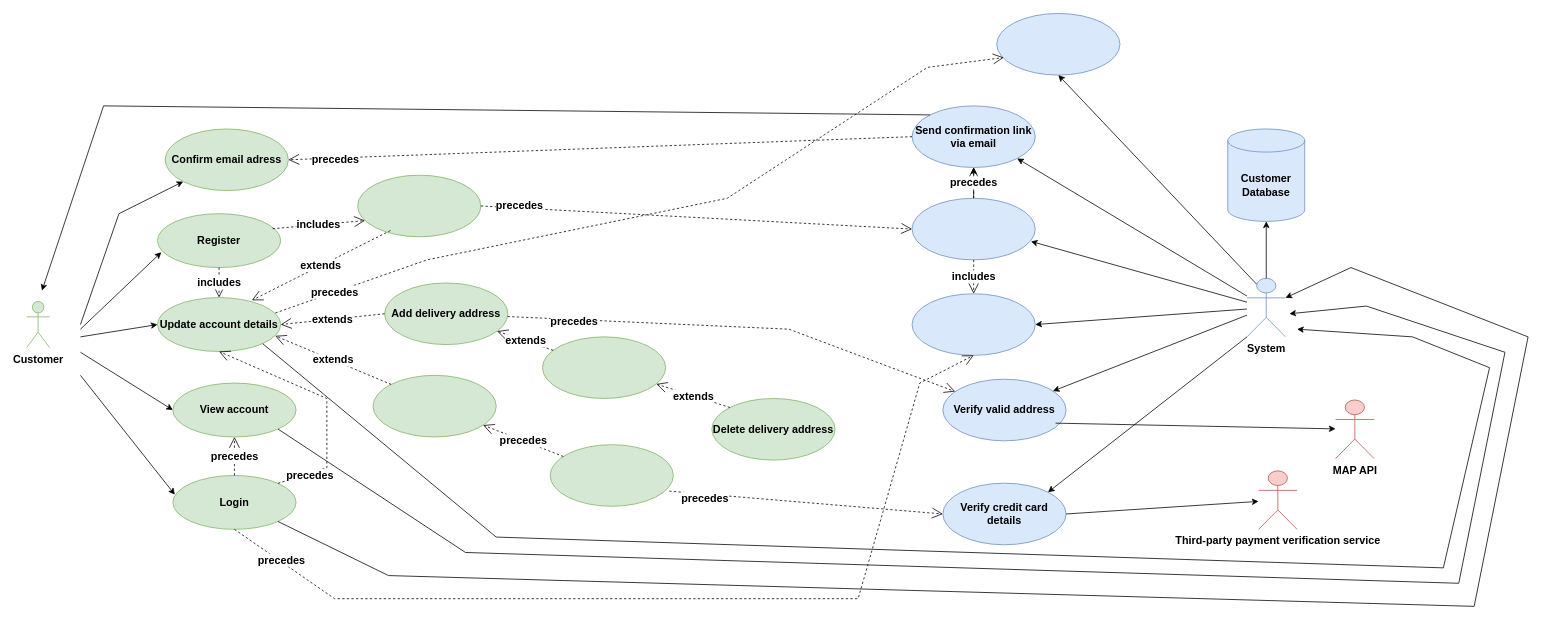
Image size: 1548x626. Some labels were removed from this diagram. The shapes that lost their labels are listed below. From the top down, each one's box as (x1, y1, x2, y2) in pixels, then its label:
(996, 13, 1120, 75): Update customer database
(357, 174, 481, 237): Change email adress (username)
(911, 198, 1035, 260): Verify email is unique
(911, 293, 1035, 355): Check for existing account
(542, 336, 666, 398): Update delivery address
(372, 375, 496, 437): Add payment method
(549, 444, 673, 506): Enter payment details
